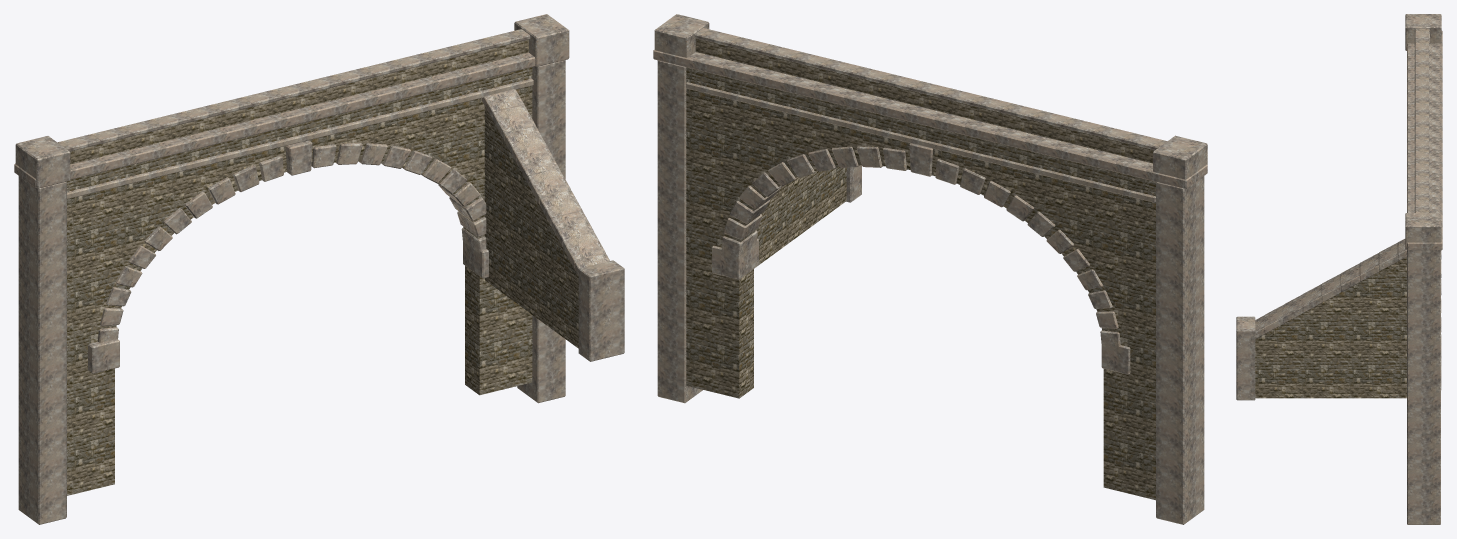
File: portal.glb
3 views of the same model, side by side, from view 1: azimuth 30°, elevation 25°; view 2: azimuth 150°, elevation 25°; view 3: azimuth 270°, elevation 25° (orthographic). The views are drawn at different scales.
Parts seen in each view (by area): view 1: portal_arch, portal_wing; view 2: portal_arch, portal_wing; view 3: portal_wing, portal_arch.
Part boxes in pixels (left/top/right/bottom): portal_arch: left=14, top=14, right=569, bottom=524; portal_wing: left=482, top=89, right=624, bottom=361; portal_arch: left=653, top=14, right=1207, bottom=524; portal_wing: left=756, top=165, right=861, bottom=264; portal_wing: left=1236, top=239, right=1406, bottom=400; portal_arch: left=1405, top=14, right=1442, bottom=524.
Size of the model in its own units: 31.8 by 20.9 by 13.
Materials: 2 (2 with a texture image).
